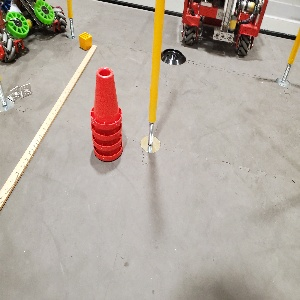Red_4: (88, 65, 124, 162)
